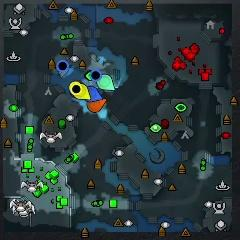p1: (86, 86, 102, 101)
p1Clone: (90, 69, 102, 82), (57, 60, 69, 72)
p2: (97, 74, 115, 91)
p4: (73, 84, 90, 100)
p4Clone: (70, 83, 82, 95)
p5: (87, 99, 107, 113)
